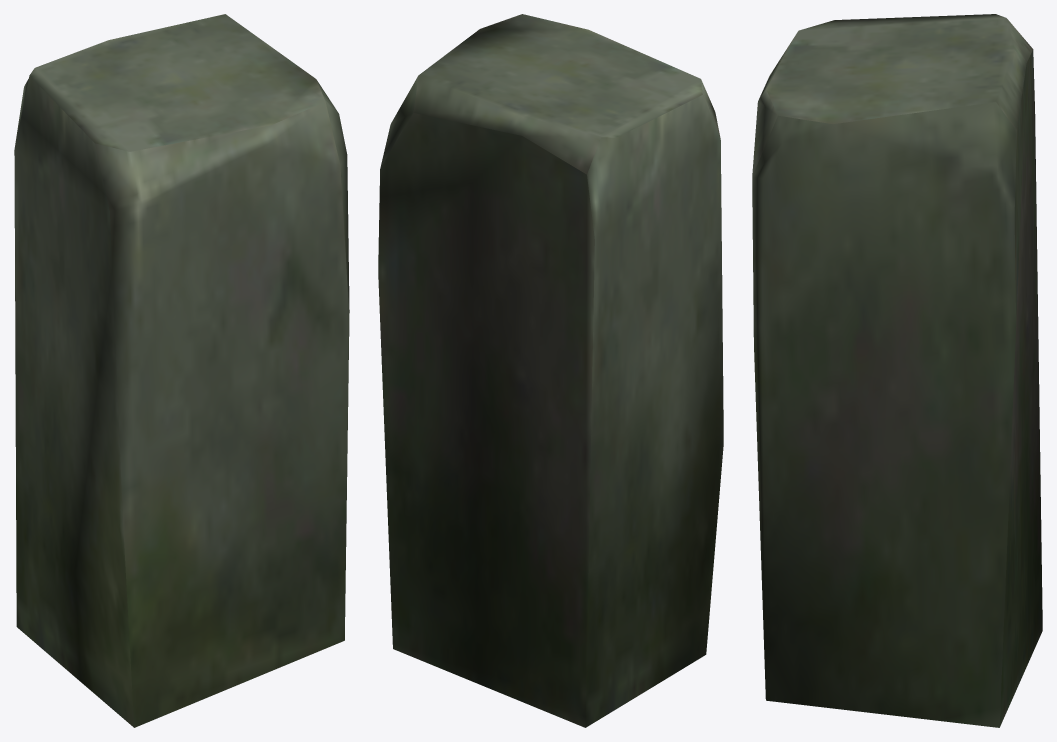
The model's file is rock_C3.fbx.
The picture shows the model from 3 angles, left to right: view 1: azimuth 30°, elevation 25°; view 2: azimuth 150°, elevation 25°; view 3: azimuth 270°, elevation 25°; orthographic projection. The views are drawn at different scales.
Visible parts, largest first — view 1: rock_C3; view 2: rock_C3; view 3: rock_C3.
Part boxes in pixels (bbox=[...]): rock_C3: bbox=[14, 14, 349, 727]; rock_C3: bbox=[378, 14, 723, 727]; rock_C3: bbox=[752, 14, 1042, 727].
Bounding box in the file's own units: 2.3 × 5.52 × 2.27.
